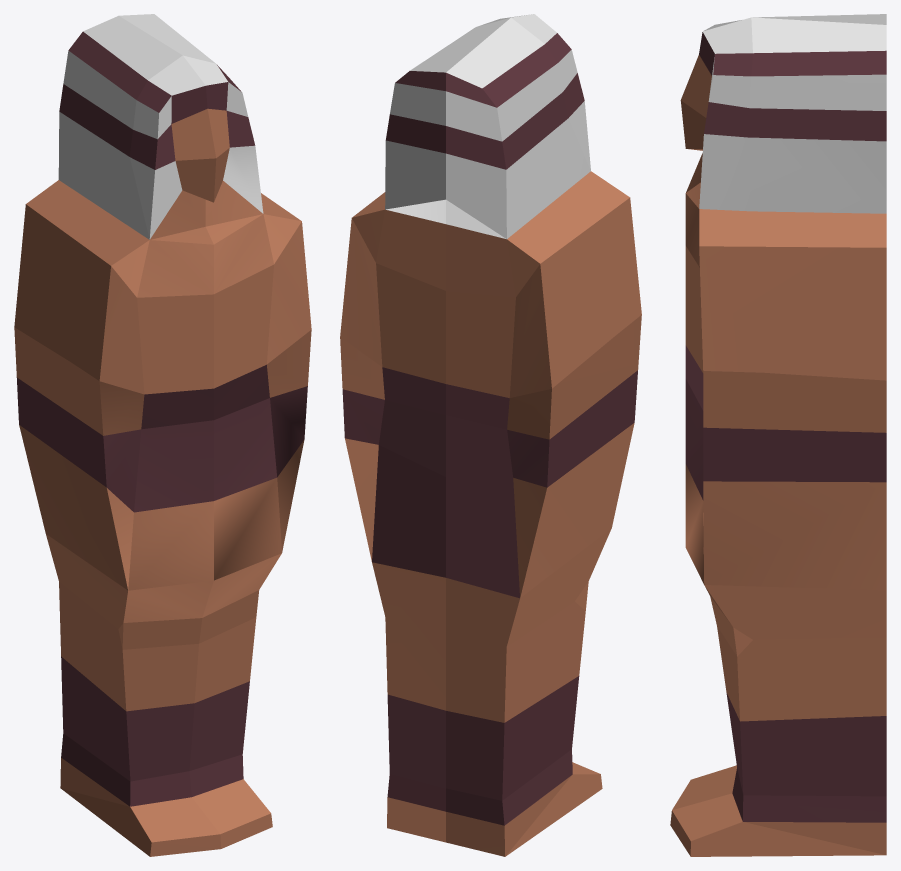
The model's file is sarcophagus.fbx.
3 renders of one model, left to right at view 1: azimuth 30°, elevation 25°; view 2: azimuth 150°, elevation 25°; view 3: azimuth 270°, elevation 25°, orthographic. The views are drawn at different scales.
Parts seen in each view (by area): view 1: man-egypt-soldier; view 2: man-egypt-soldier; view 3: man-egypt-soldier.
Boxes of the visible parts, x1,y1,x2,y2 form: man-egypt-soldier: (14,14,311,856); man-egypt-soldier: (340,14,641,856); man-egypt-soldier: (670,14,886,856).
Size of the model in its own units: 54.11 by 185 by 44.98.
